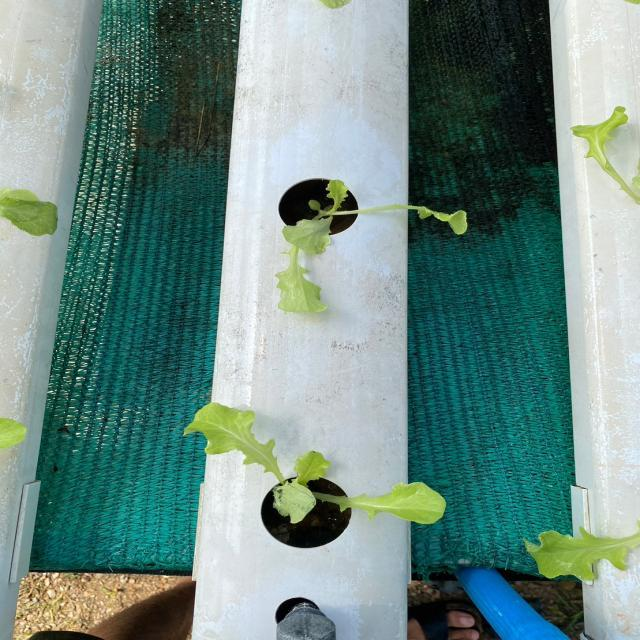Lettuce-Not-Ready-to-Harvest: (185, 401, 453, 536), (275, 171, 469, 326)
